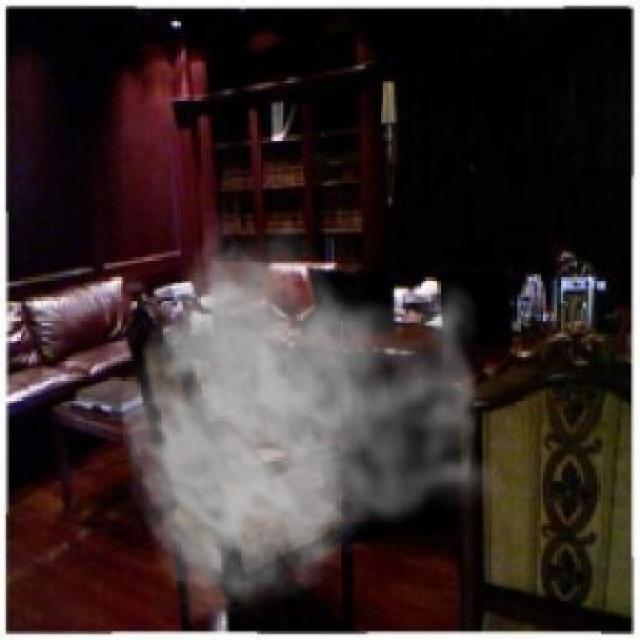smoke: (148, 263, 476, 577)
